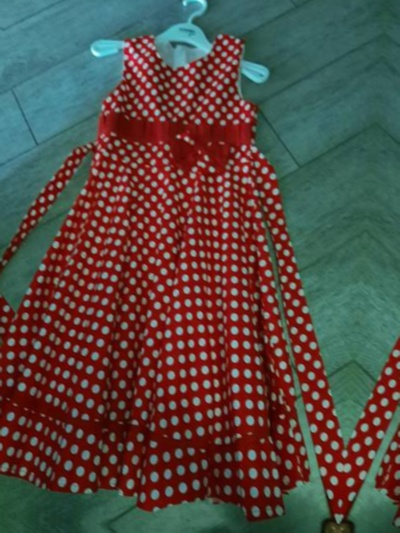Dress: (0, 4, 378, 525), (345, 39, 400, 533)
